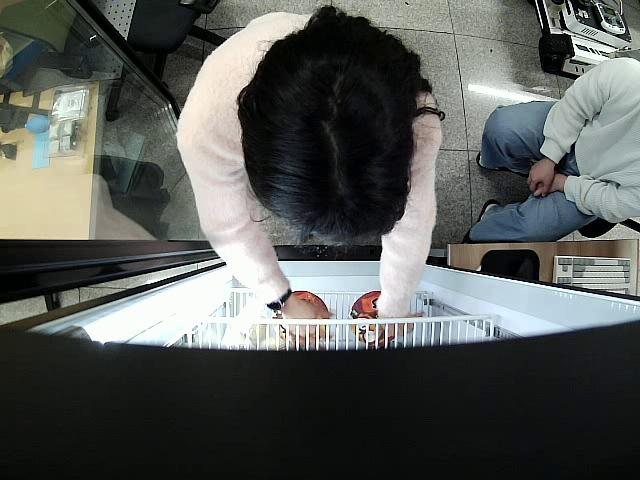00_hand: (275, 294, 337, 349), (363, 313, 424, 336)
05_nuguri_L: (279, 288, 329, 343), (348, 289, 392, 347)
